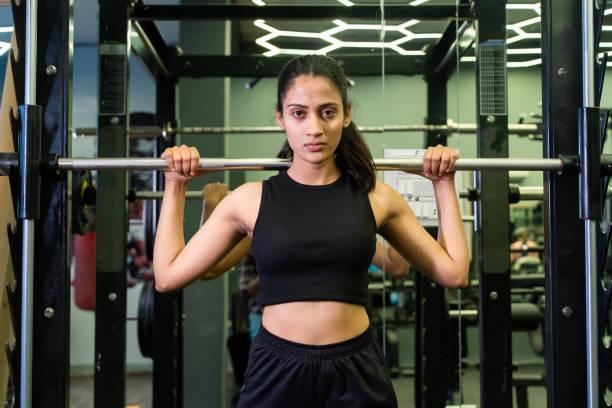Pessoa: (154, 55, 468, 407), (510, 227, 538, 263)
